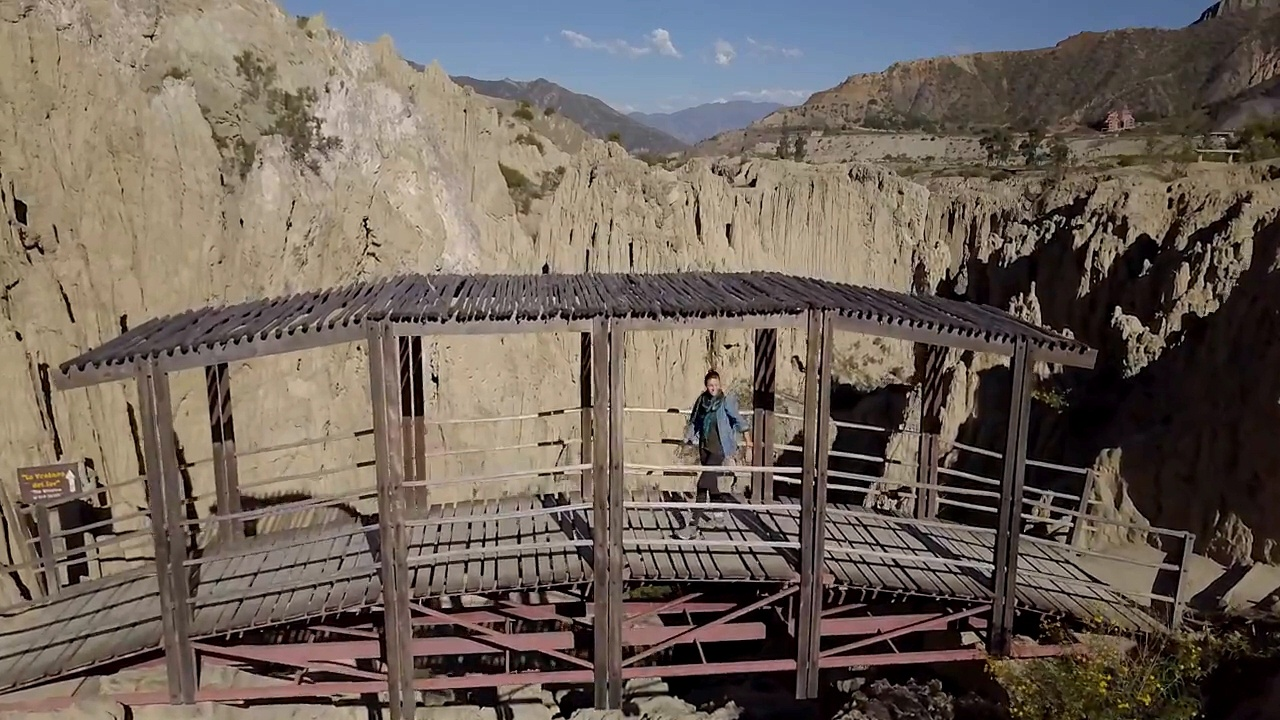insan: (678, 368, 754, 542)
